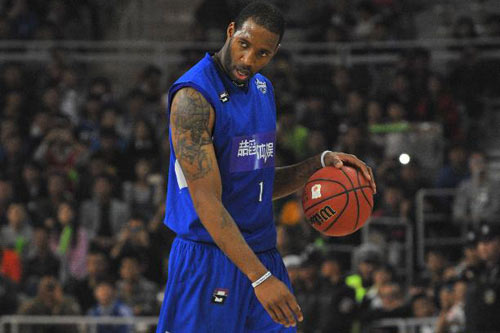ball: (301, 164, 375, 238)
